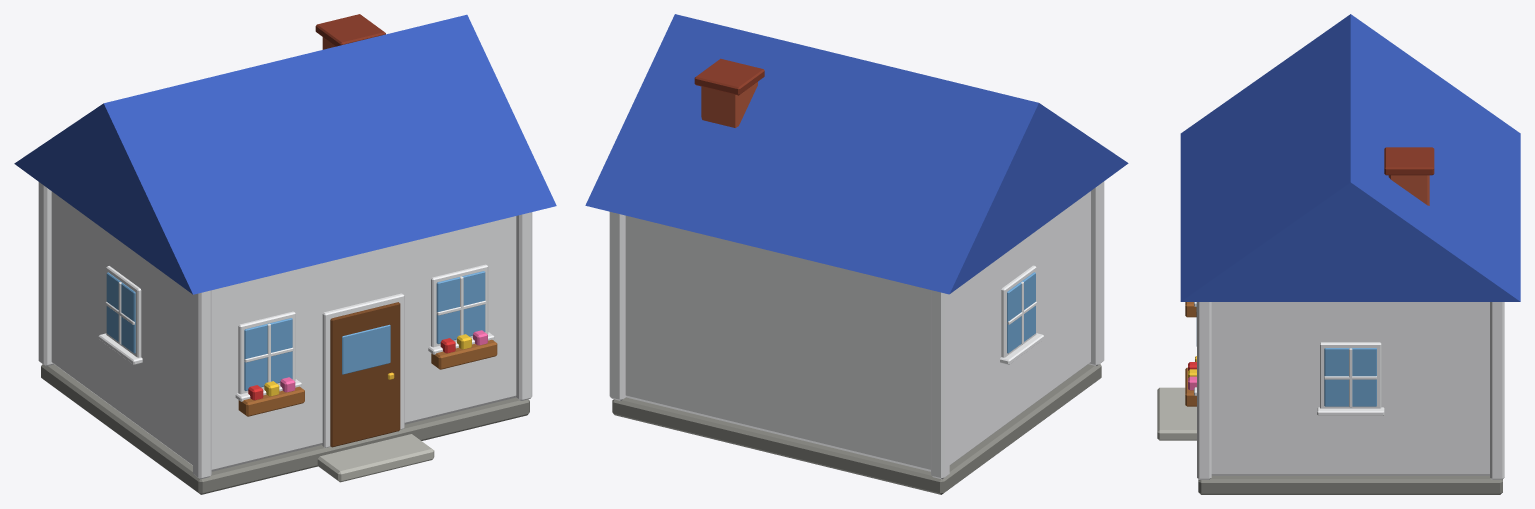
Rendered from WhiteHouse.fbx.
The picture shows the model from 3 angles, left to right: view 1: azimuth 30°, elevation 25°; view 2: azimuth 150°, elevation 25°; view 3: azimuth 270°, elevation 25°; orthographic projection. The views are drawn at different scales.
Parts seen in each view (by area): view 1: WhiteHouse; view 2: WhiteHouse; view 3: WhiteHouse.
Part boxes in pixels (x1,y1,x2,y2): WhiteHouse: [14, 14, 556, 494]; WhiteHouse: [585, 14, 1128, 494]; WhiteHouse: [1157, 14, 1520, 494].
Size of the model in its own units: 13.6 by 12.1 by 12.4.
1 material, 1 textured.
